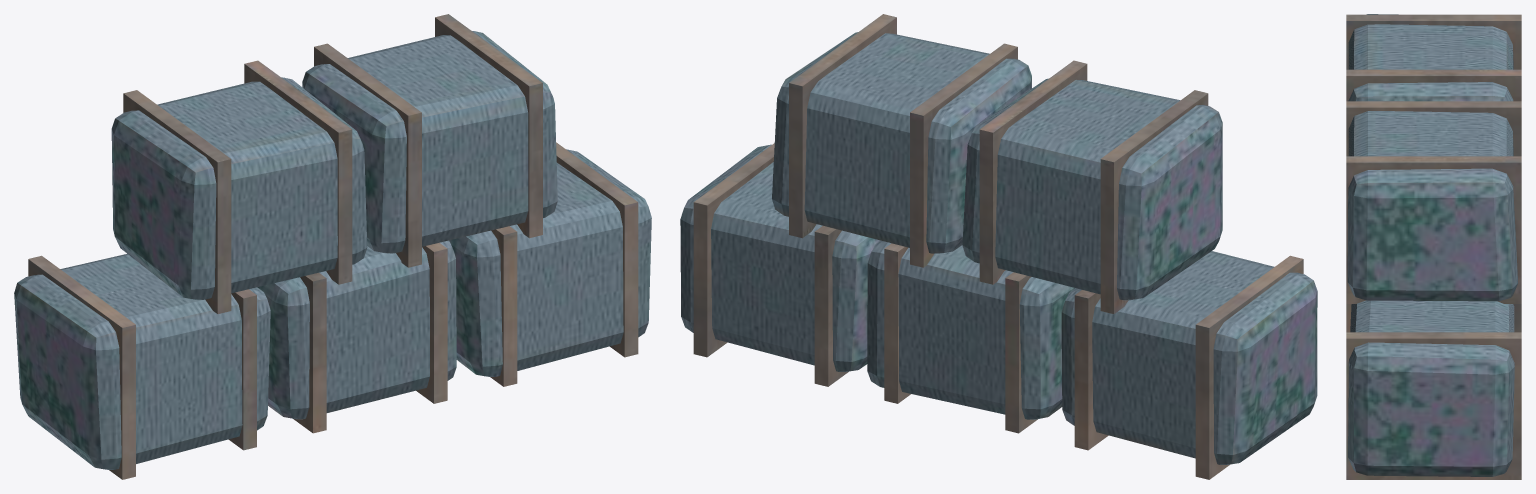
Rendered from firewood.glb.
The picture shows the model from 3 angles, left to right: view 1: azimuth 30°, elevation 25°; view 2: azimuth 150°, elevation 25°; view 3: azimuth 270°, elevation 25°; orthographic projection. The views are drawn at different scales.
Parts seen in each view (by area): view 1: firewood; view 2: firewood; view 3: firewood.
Part boxes in pixels (x1,y1,x2,y2): firewood: (14,14,651,479); firewood: (680,14,1317,479); firewood: (1346,14,1521,479).
Bounding box in the file's own units: 1.25 × 0.62 × 0.36.
1 material, 1 textured.
